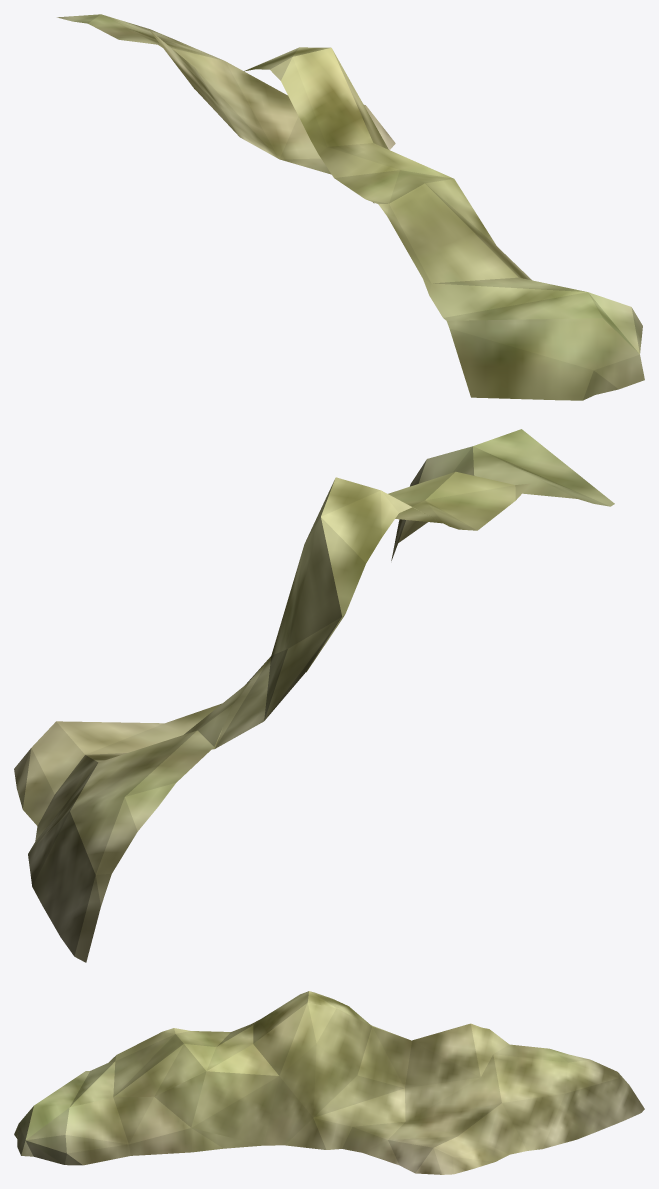
3 renders of one model, top to bottom at view 1: azimuth 30°, elevation 25°; view 2: azimuth 150°, elevation 25°; view 3: azimuth 270°, elevation 25°, orthographic. The views are drawn at different scales.
Bounding box in the file's own units: 0.3674 × 0.3239 × 1.49.
1 material, 1 textured.
